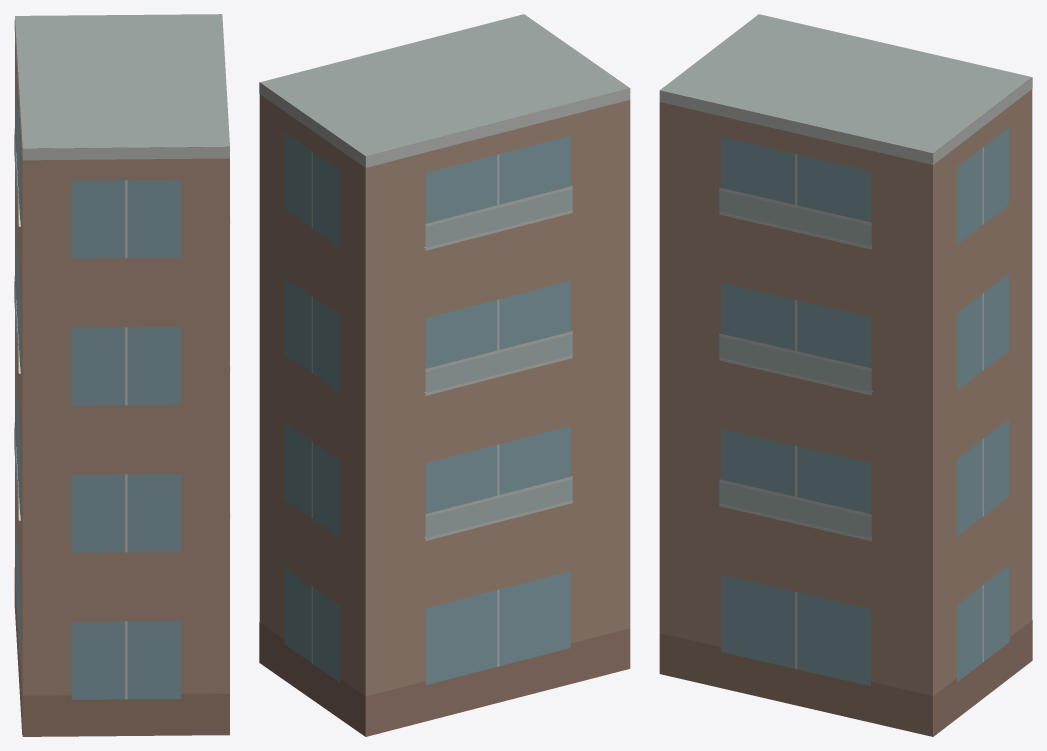
File: survey-upis-32723591.glb
3 renders of one model, left to right at view 1: azimuth 30°, elevation 25°; view 2: azimuth 150°, elevation 25°; view 3: azimuth 270°, elevation 25°, orthographic.
Parts seen in each view (by area): view 1: survey-upis-32723591.tmp; view 2: survey-upis-32723591.tmp; view 3: survey-upis-32723591.tmp.
Part boxes in pixels (bbox=[...]): survey-upis-32723591.tmp: bbox=[14, 14, 230, 736]; survey-upis-32723591.tmp: bbox=[259, 14, 630, 736]; survey-upis-32723591.tmp: bbox=[659, 14, 1032, 736].
Size of the model in its own units: 6.25 by 12.2 by 7.07.
